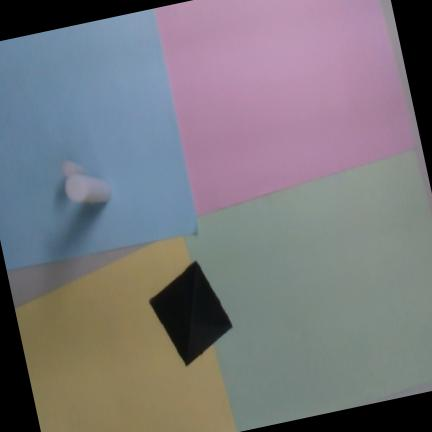Cilindro: (65, 174, 112, 203), (61, 160, 89, 177)
Piramide: (150, 260, 233, 367)
